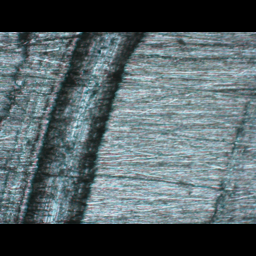d: (0, 32, 153, 223)
